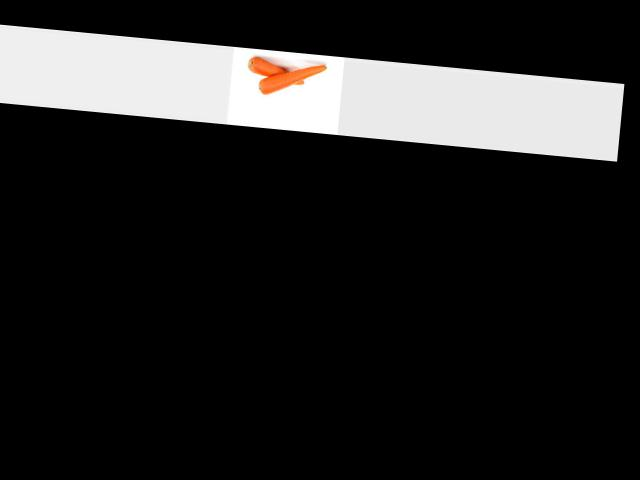carrot: (242, 54, 311, 88)
